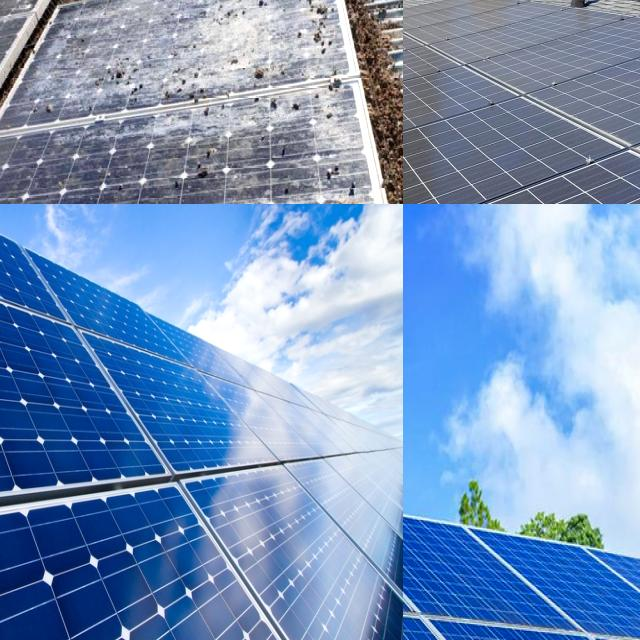bird: (294, 0, 351, 100), (179, 114, 216, 197), (256, 36, 290, 122), (337, 193, 372, 204)
crack: (0, 208, 193, 528), (0, 482, 383, 640), (68, 318, 293, 501), (458, 505, 640, 640), (403, 502, 579, 640)
